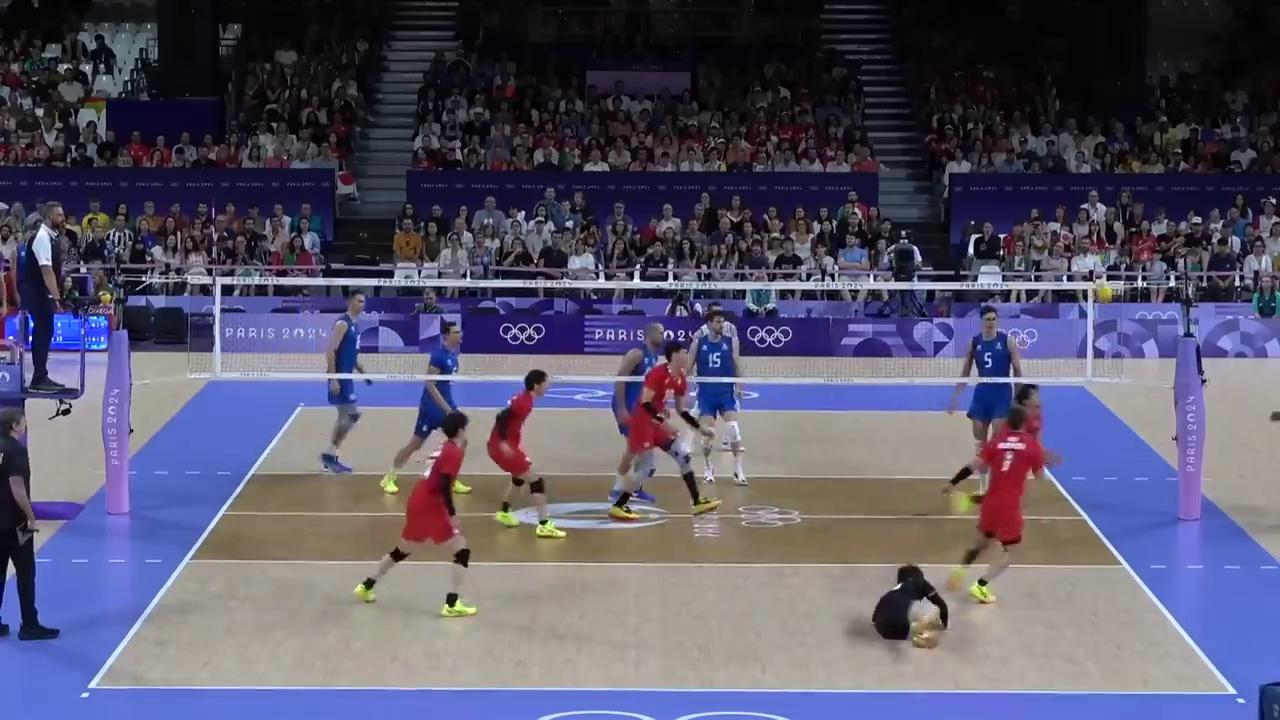ball: (1094, 282, 1112, 304)
